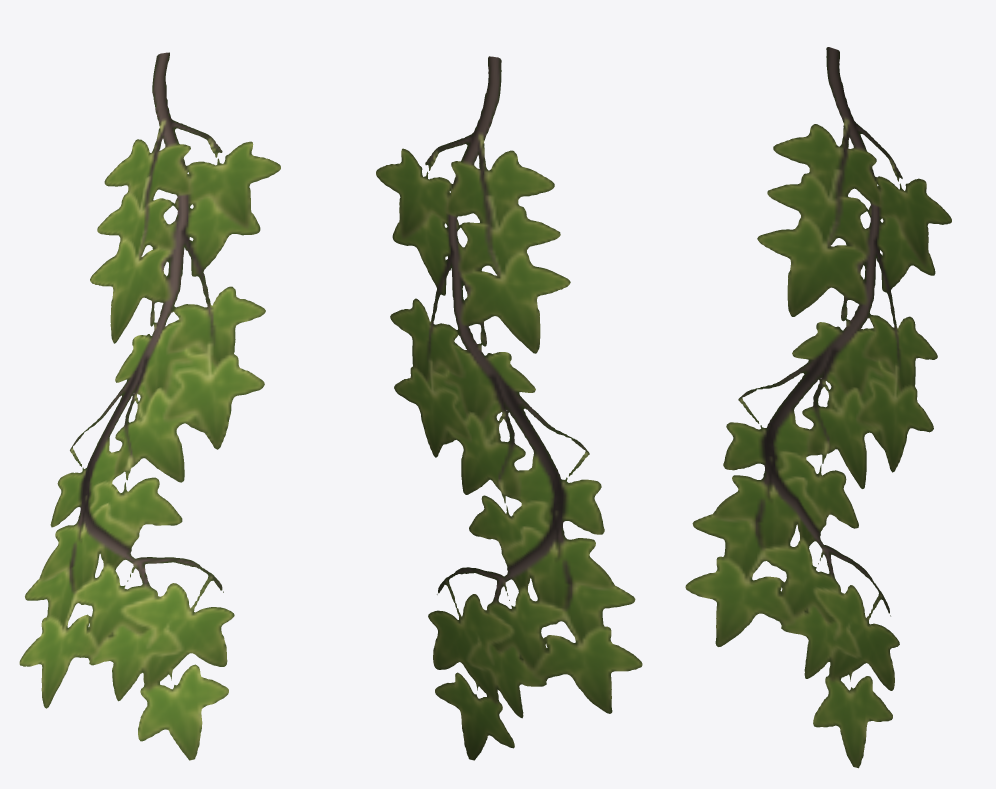
Rendered from SM_ivy_single_short.fbx.
3 views of the same model, side by side, from view 1: azimuth 30°, elevation 25°; view 2: azimuth 150°, elevation 25°; view 3: azimuth 330°, elevation 25° (orthographic).
Parts seen in each view (by area): view 1: SM_ivy_single_short; view 2: SM_ivy_single_short; view 3: SM_ivy_single_short.
Boxes of the visible parts, bbox=[...] form: SM_ivy_single_short: bbox=[19, 52, 280, 760]; SM_ivy_single_short: bbox=[376, 56, 642, 760]; SM_ivy_single_short: bbox=[685, 47, 951, 768].
Bounding box in the file's own units: 13.42 × 31.21 × 1.27.
